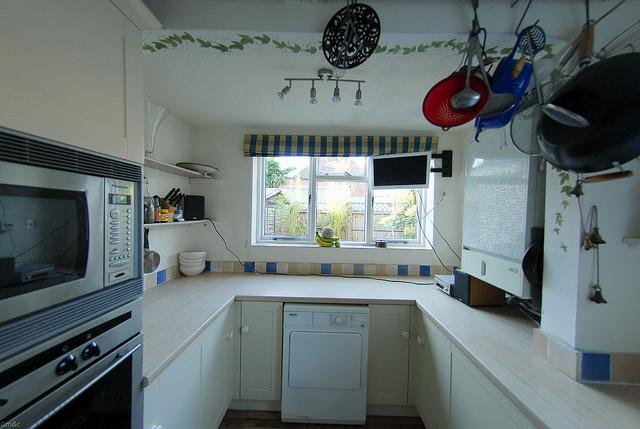tv: (361, 141, 440, 200)
